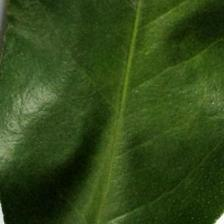healthy: (0, 0, 223, 223)
